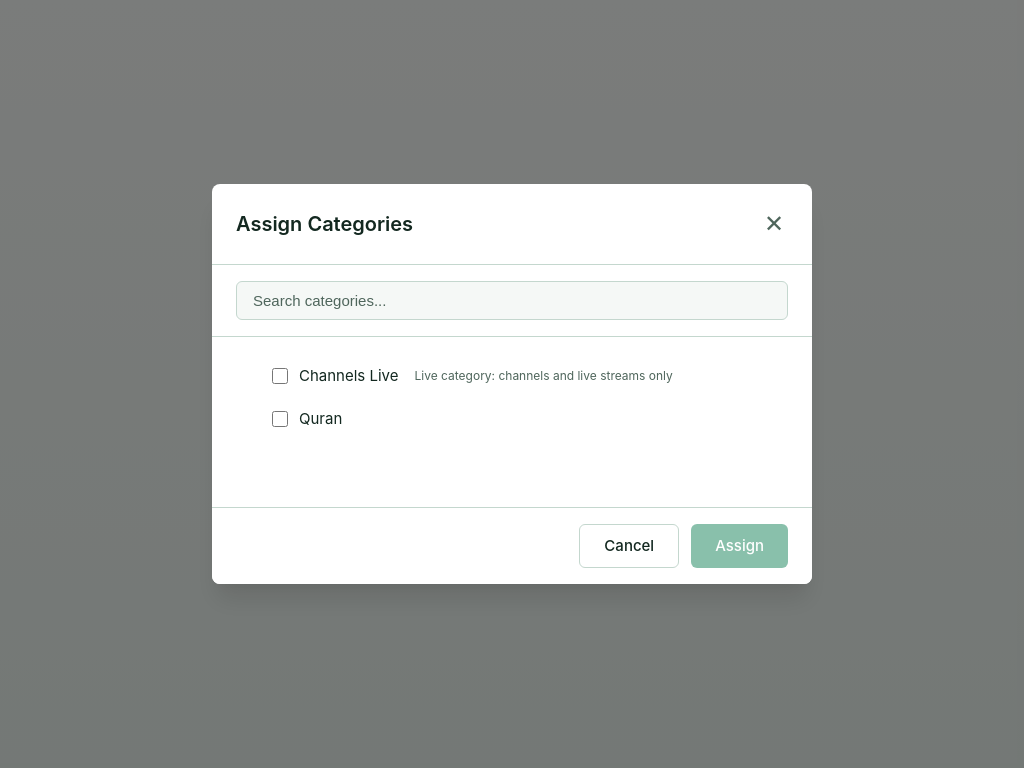
CategoryAssignmentModal and the live category (spec §8) › a click on a category name ticks it once in multi-select (Cubic r9 #28)
Click the text "Quran" at {"x": 321, "y": 419}, box [299, 408, 342, 430]
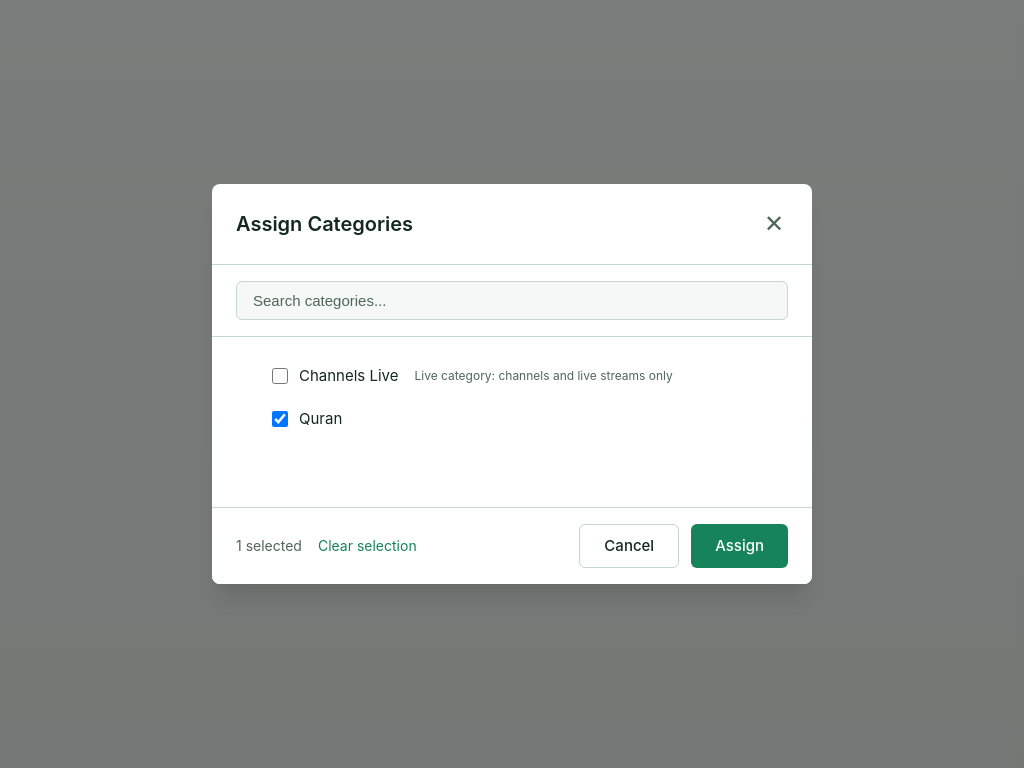
Result: the checkbox labelled "Quran" is checked at [272, 411, 288, 427]
Result: the button "Assign" is enabled at [691, 524, 788, 568]
